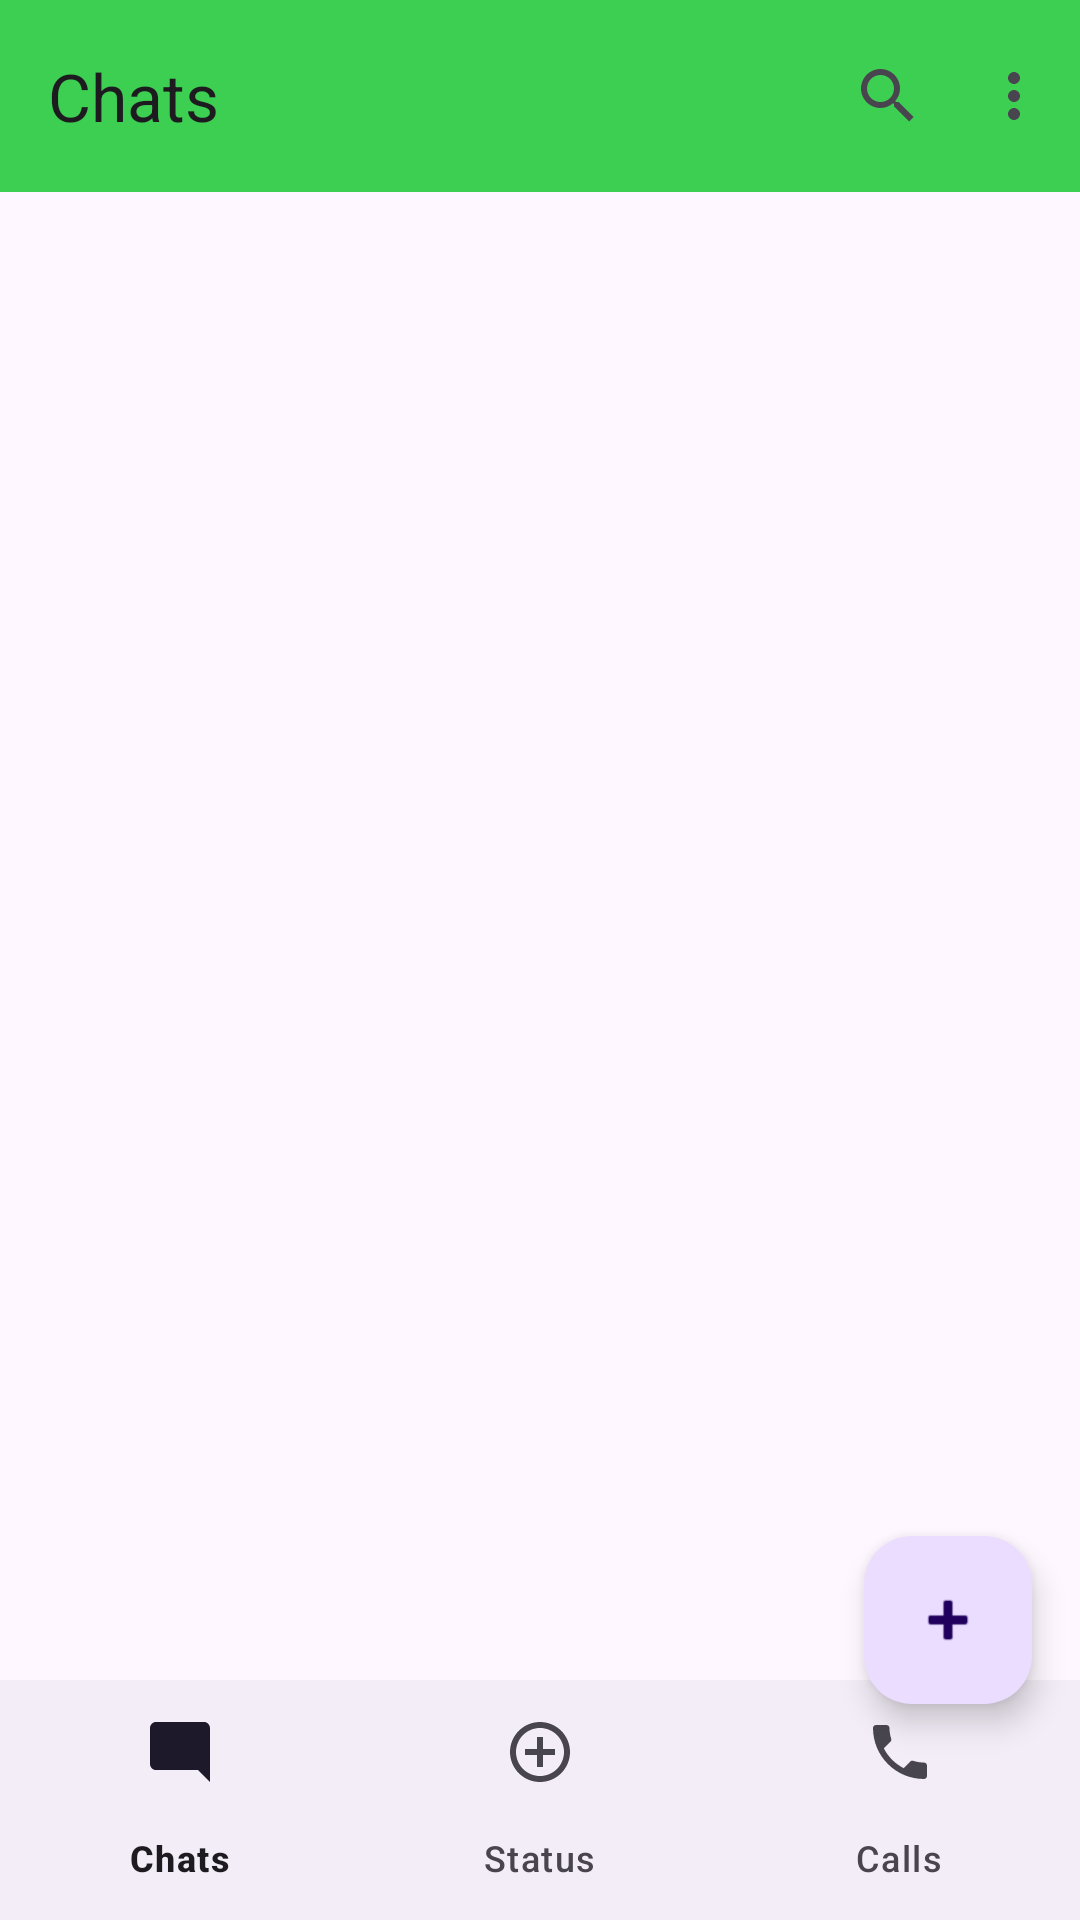

Where icons sit on this 1080w x 1920h app screen, as [x1,y1,x2,y2]:
New Chat: [864,1536,1032,1704]
